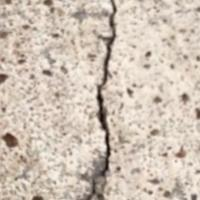crack: (79, 0, 141, 199)
